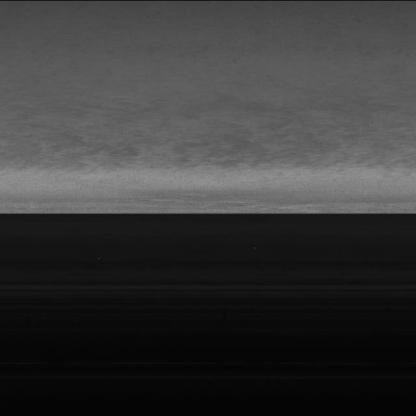silk_spot: (30, 118, 326, 180)
